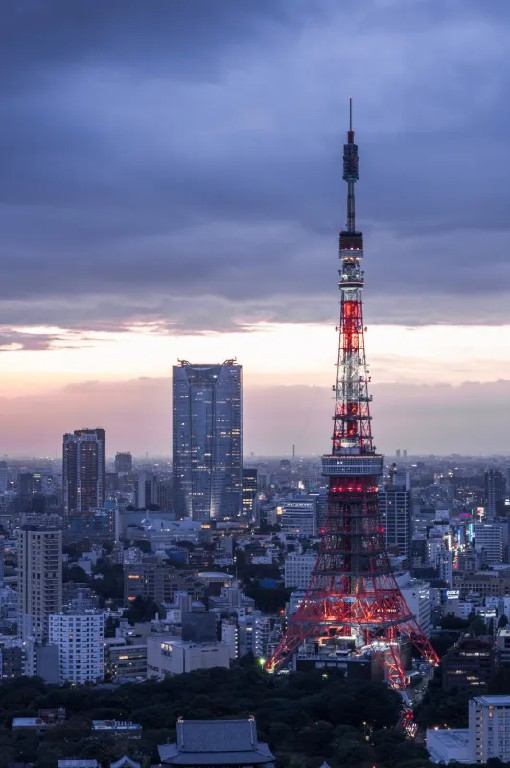Tokyo: (268, 93, 441, 678)
